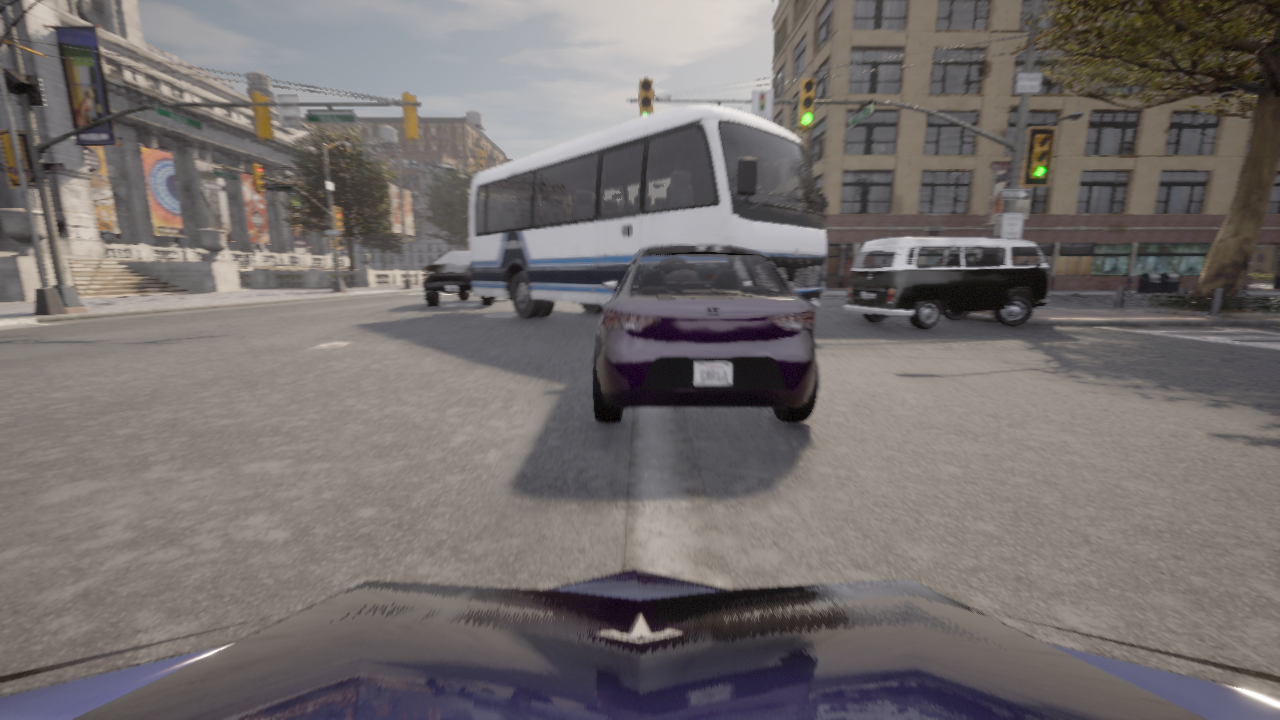cyclist: (0, 569, 1279, 719), (469, 106, 828, 318), (592, 244, 818, 423), (844, 236, 1048, 329), (422, 250, 510, 306)
